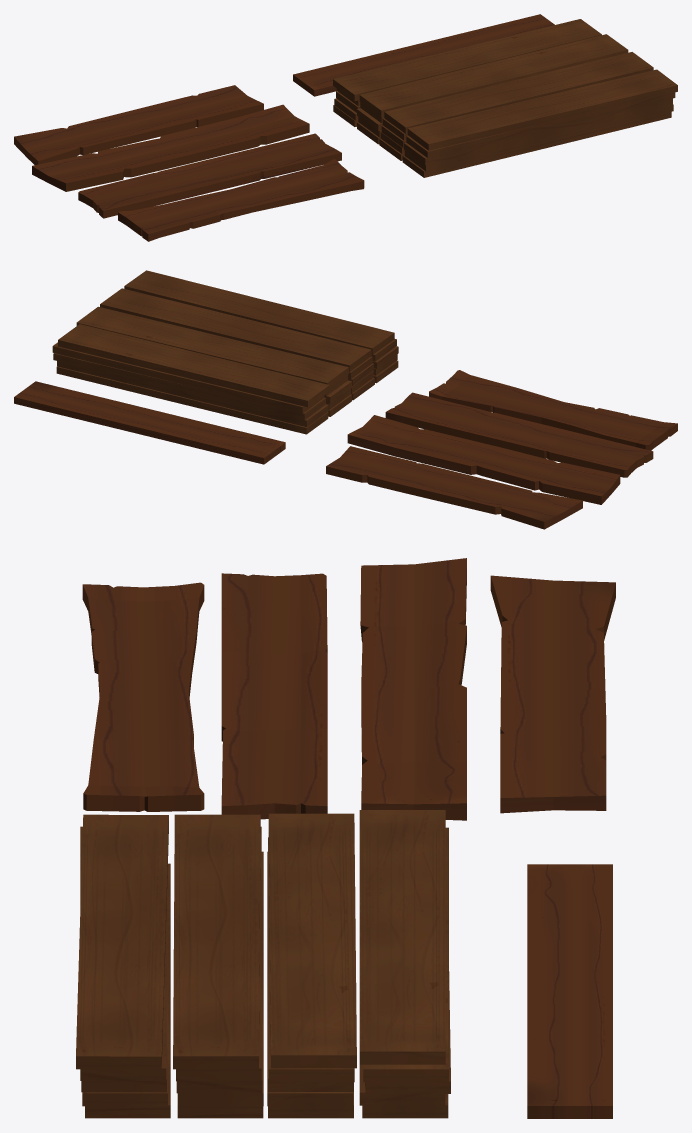
File: Tabuas.fbx
The picture shows the model from 3 angles, top to bottom: view 1: azimuth 30°, elevation 25°; view 2: azimuth 150°, elevation 25°; view 3: azimuth 270°, elevation 25°; orthographic projection. The views are drawn at different scales.
Visible parts, largest first — view 1: ConjuntoTabuaMadeiraLP, TabuaV2, TabuaV3, TabuaV1, TabuaV4, TabuaMadeiraLP; view 2: ConjuntoTabuaMadeiraLP, TabuaV2, TabuaV3, TabuaV1, TabuaMadeiraLP, TabuaV4; view 3: ConjuntoTabuaMadeiraLP, TabuaV2, TabuaV3, TabuaV1, TabuaV4, TabuaMadeiraLP.
Boxes of the visible parts, x1=… form: ConjuntoTabuaMadeiraLP: x1=333, y1=19, x2=677, y2=177; TabuaV2: x1=32, y1=104, x2=309, y2=191; TabuaV3: x1=78, y1=133, x2=341, y2=218; TabuaV1: x1=14, y1=85, x2=263, y2=164; TabuaV4: x1=118, y1=159, x2=364, y2=241; TabuaMadeiraLP: x1=293, y1=14, x2=554, y2=96; ConjuntoTabuaMadeiraLP: x1=52, y1=270, x2=398, y2=434; TabuaV2: x1=347, y1=415, x2=620, y2=504; TabuaV3: x1=385, y1=392, x2=653, y2=477; TabuaV1: x1=326, y1=446, x2=582, y2=529; TabuaMadeiraLP: x1=14, y1=381, x2=285, y2=464; TabuaV4: x1=429, y1=370, x2=677, y2=450; ConjuntoTabuaMadeiraLP: x1=76, y1=810, x2=450, y2=1118; TabuaV2: x1=360, y1=558, x2=466, y2=820; TabuaV3: x1=221, y1=573, x2=327, y2=819; TabuaV1: x1=490, y1=575, x2=615, y2=813; TabuaV4: x1=82, y1=582, x2=204, y2=811; TabuaMadeiraLP: x1=527, y1=864, x2=612, y2=1118.
Size of the model in its own units: 443 by 25.5 by 189.
